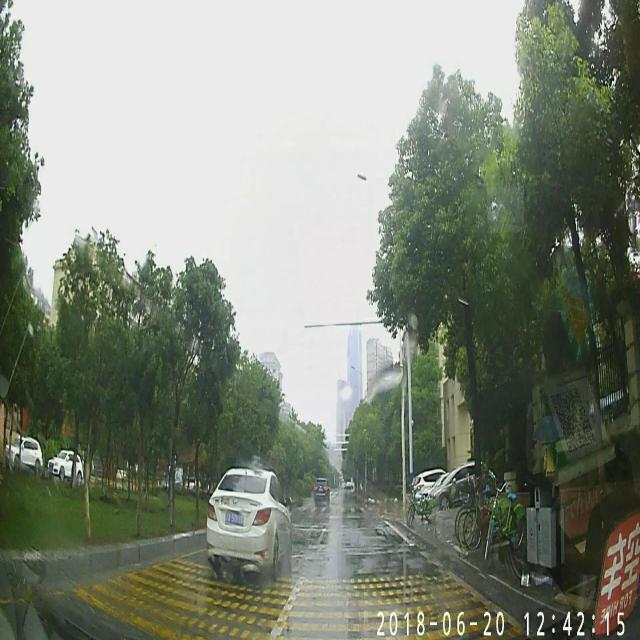car: (206, 466, 292, 576), (313, 473, 331, 507)
